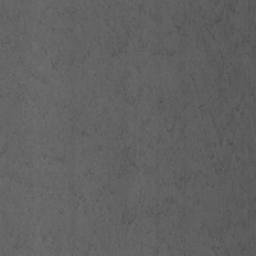Silk spot: (0, 0, 256, 256), (39, 7, 75, 33), (0, 14, 26, 49)
